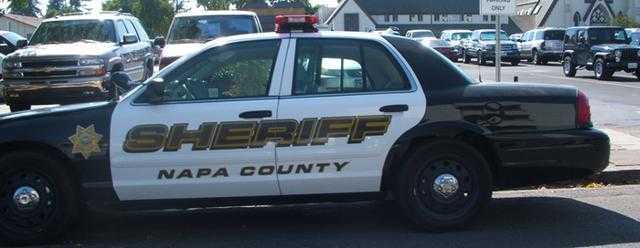Police Car: (7, 10, 621, 245)
